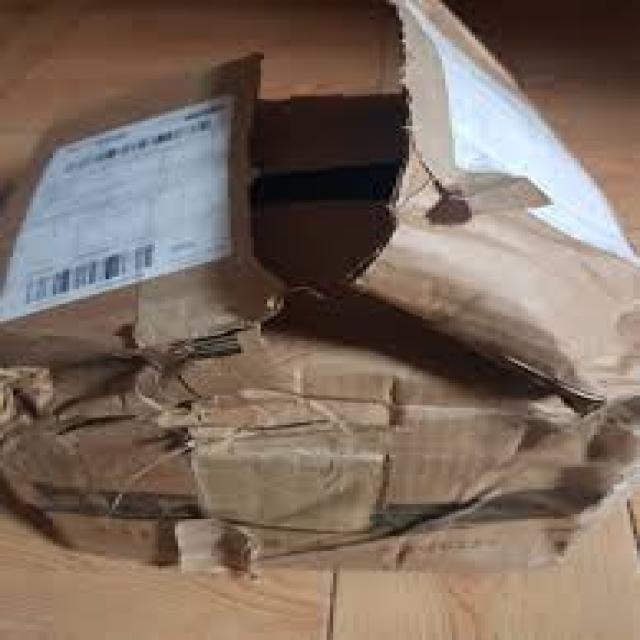crushed: (5, 396, 640, 560)
tear: (35, 11, 619, 386)
